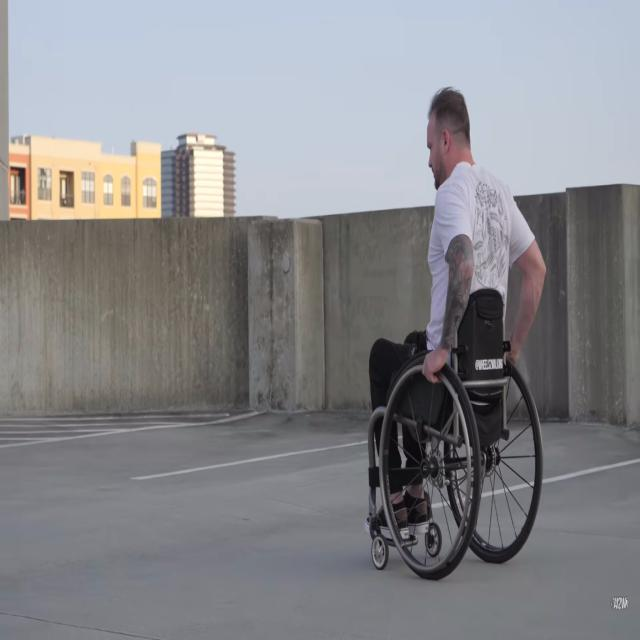wheelchairs: (352, 308, 546, 584)
